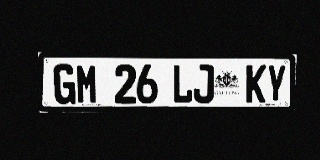2: (115, 64, 136, 104)
6: (137, 64, 157, 104)
G: (53, 64, 76, 104)
J: (193, 64, 214, 103)
K: (246, 65, 266, 103)
L: (172, 64, 193, 103)
M: (76, 64, 98, 104)
Y: (266, 65, 286, 103)
